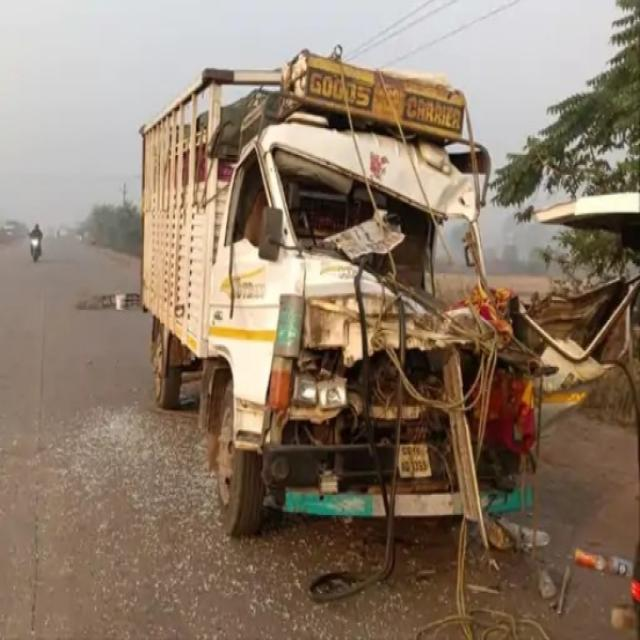accident: (141, 50, 541, 609)
